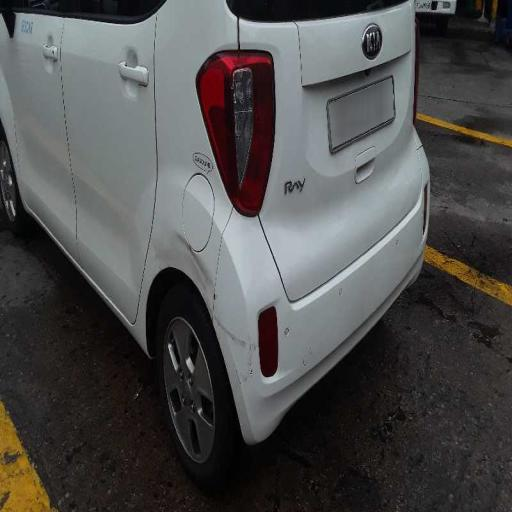dent: (146, 168, 232, 313)
scratch: (200, 288, 301, 401)
